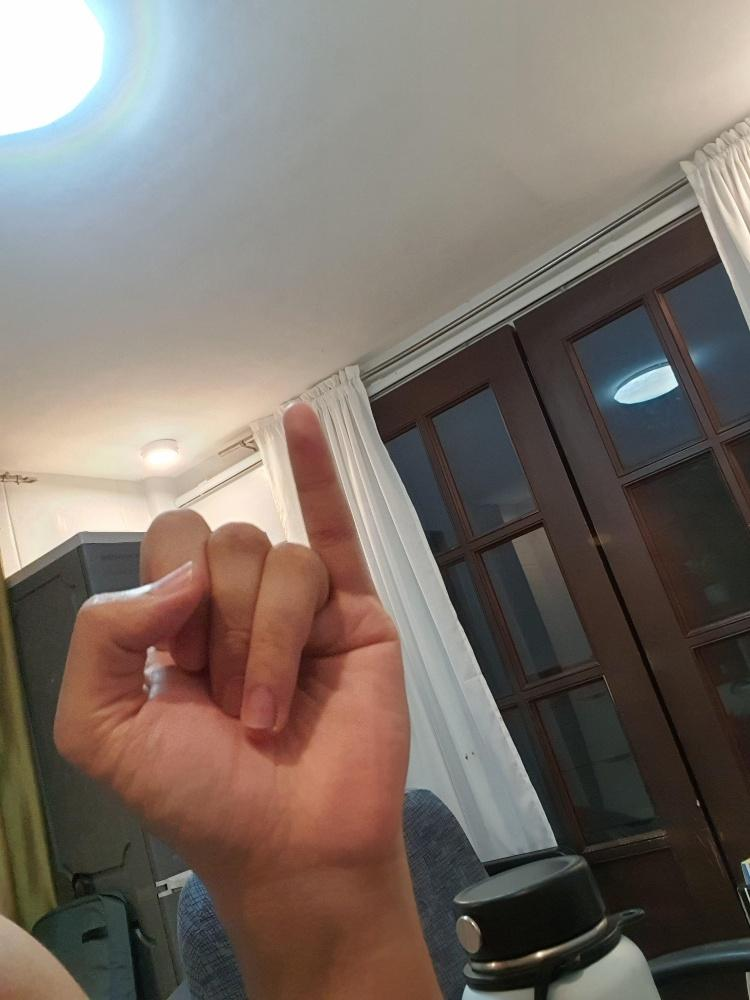i: (46, 395, 417, 879)
